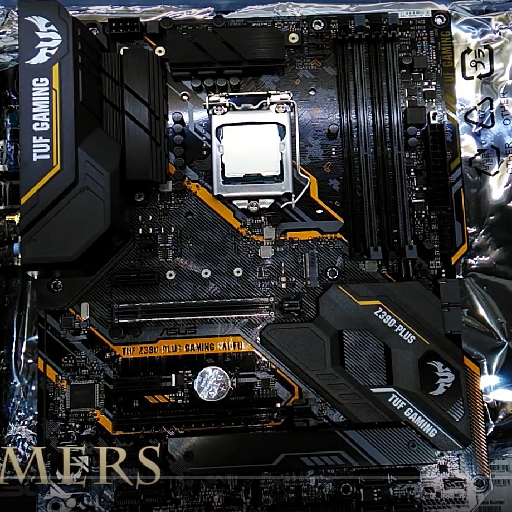CPU: (207, 91, 296, 213)
GPU: (112, 291, 305, 327), (114, 396, 312, 431)
MOTHERBOARD: (20, 1, 492, 510)
RAM: (336, 13, 418, 259)
SSD: (301, 248, 317, 289)
